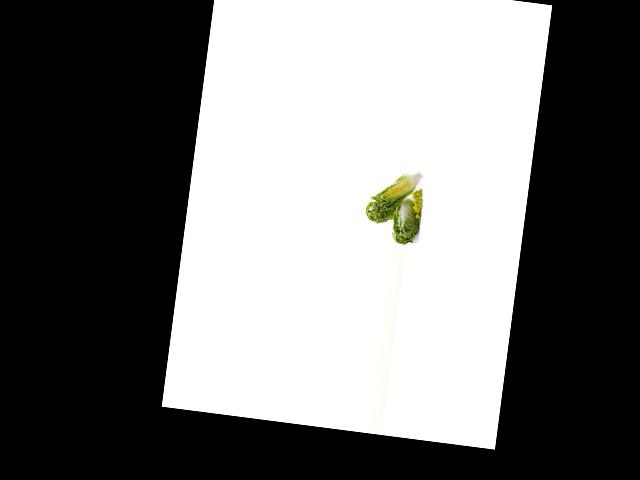lettuce: (389, 191, 425, 245)
